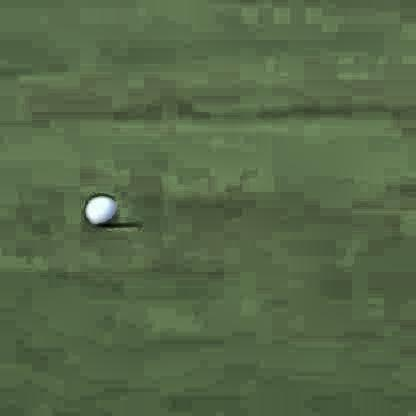golfball: (83, 193, 114, 223)
